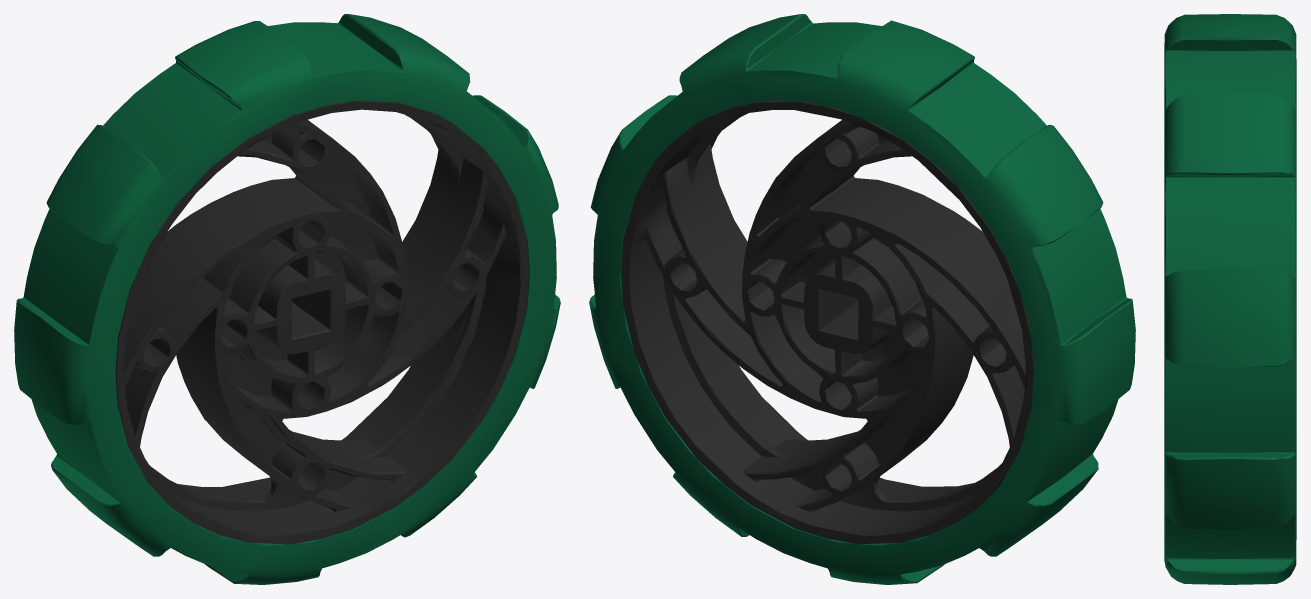
File: 3_25_Traction_Wheel.glb
The picture shows the model from 3 angles, left to right: view 1: azimuth 30°, elevation 25°; view 2: azimuth 150°, elevation 25°; view 3: azimuth 270°, elevation 25°; orthographic projection.
Parts seen in each view (by area): view 1: 3.25 Traction Wheel; view 2: 3.25 Traction Wheel; view 3: 3.25 Traction Wheel.
Boxes of the visible parts, left/top/right/bottom form: 3.25 Traction Wheel: left=14, top=14, right=560, bottom=584; 3.25 Traction Wheel: left=589, top=14, right=1135, bottom=584; 3.25 Traction Wheel: left=1164, top=14, right=1296, bottom=584.
Bounding box in the file's own units: 3.23 × 3.24 × 0.75.
